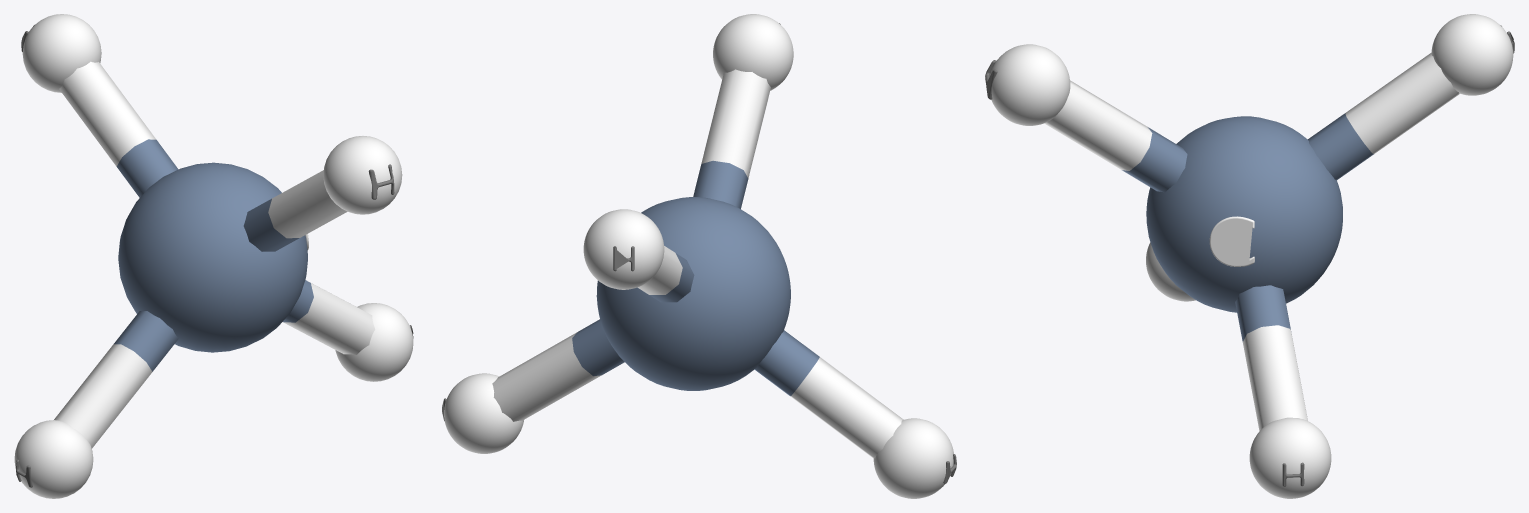
The picture shows the model from 3 angles, left to right: view 1: azimuth 30°, elevation 25°; view 2: azimuth 150°, elevation 25°; view 3: azimuth 270°, elevation 25°; orthographic projection. The views are drawn at different scales.
Parts seen in each view (by area): view 1: CH4; view 2: CH4; view 3: CH4.
Boxes of the visible parts, left/top/right/bottom form: CH4: left=14, top=14, right=413, bottom=498; CH4: left=442, top=14, right=956, bottom=498; CH4: left=985, top=14, right=1514, bottom=498.
Bounding box in the file's own units: 208 × 163 × 207.
